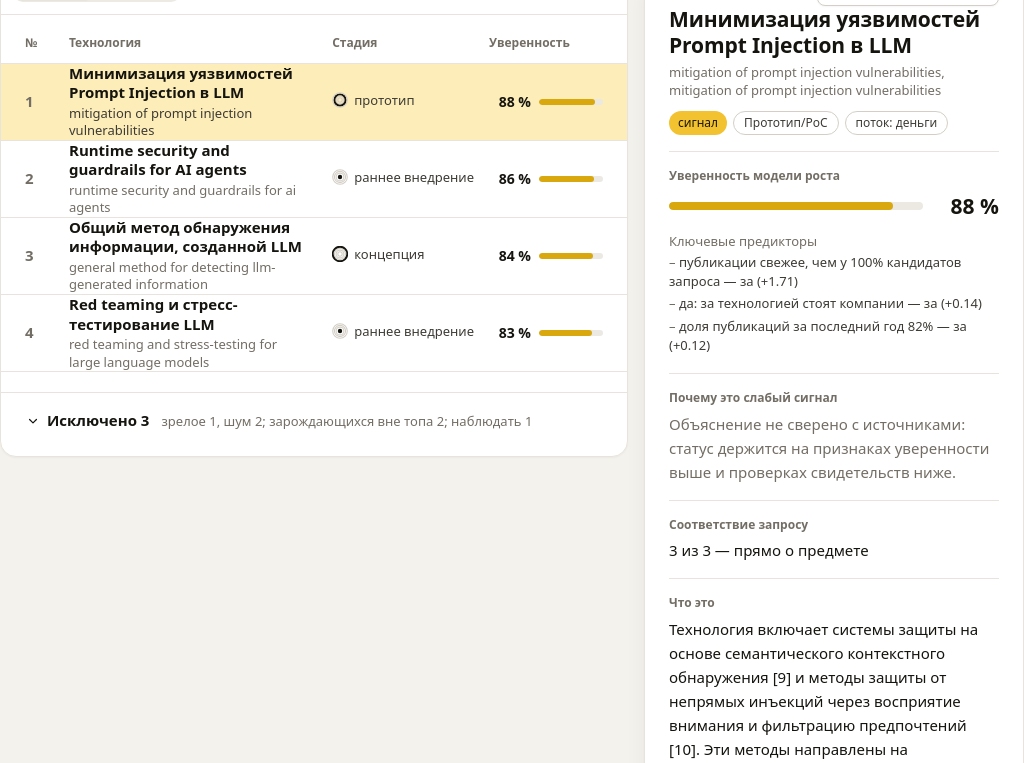
Test: экран отчёта › вторая строка чисел, отказы источников, пояснение короткого ТОП и «наблюдать»
(page scrolled)
What coordinates should you click on to do the following:
click the button "Исключено 3"
I would click on:
 (87, 421)
Its box is [25,409,149,432].
(page scrolled)
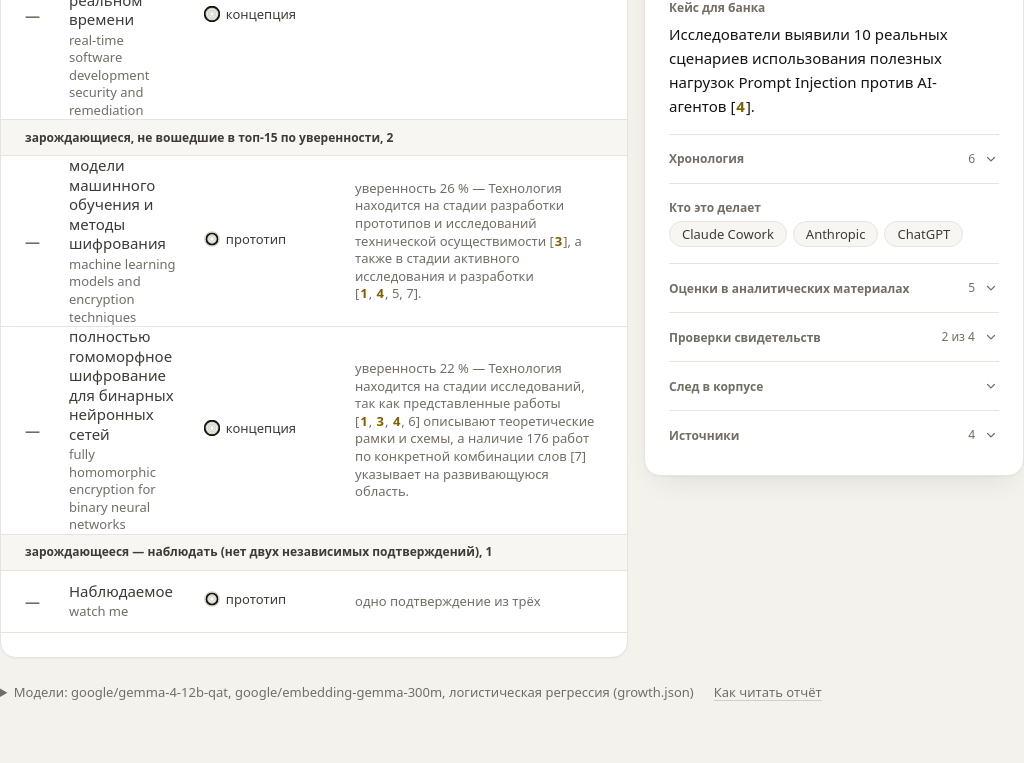
Check: the text "одно подтверждение из трёх" is shown, box [343,570,627,632]
